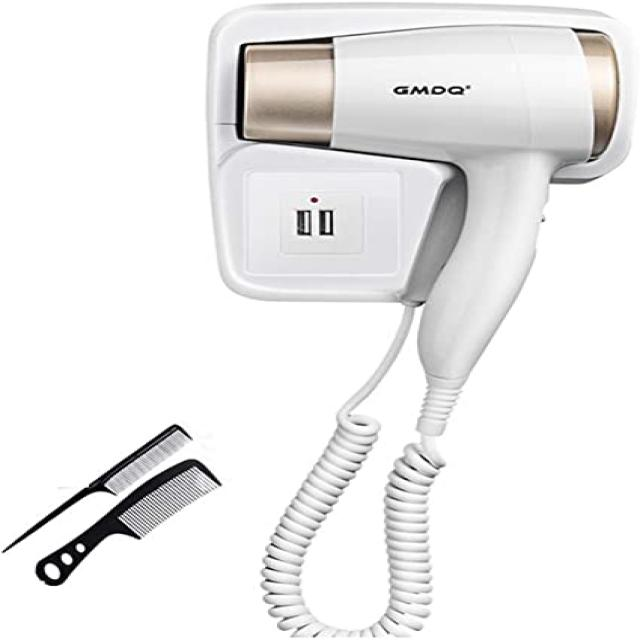dryer: (185, 2, 626, 634), (188, 6, 629, 456)
